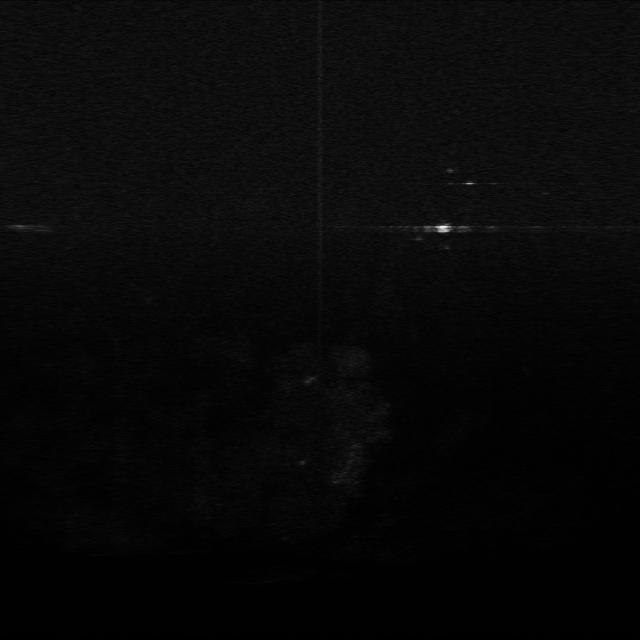rov: (431, 220, 458, 239)
